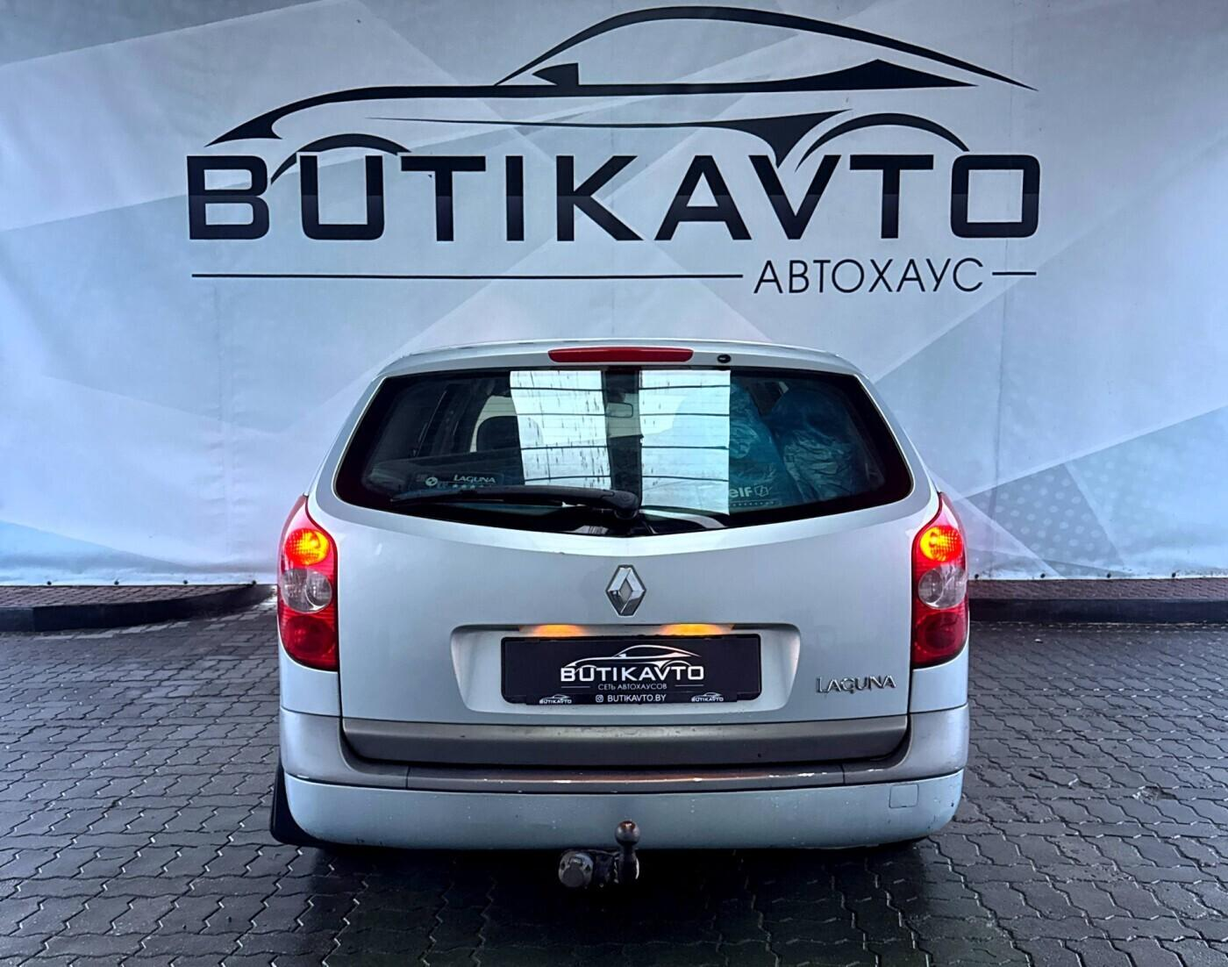Laguna_2001-2005: (270, 335, 969, 885)
